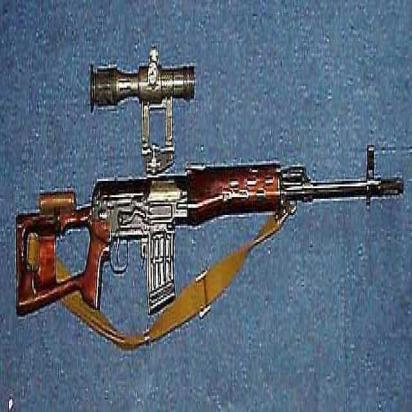Gun: (13, 48, 405, 320)
